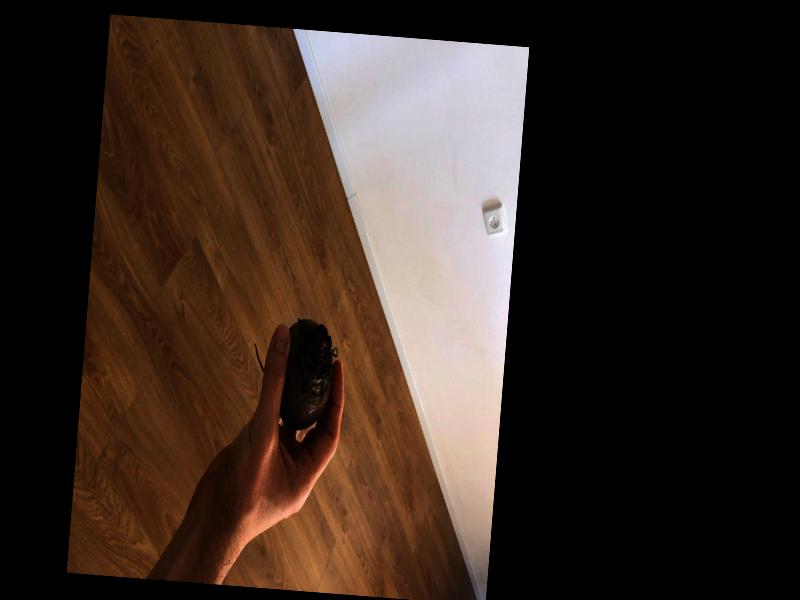Beet: (248, 314, 338, 431)
